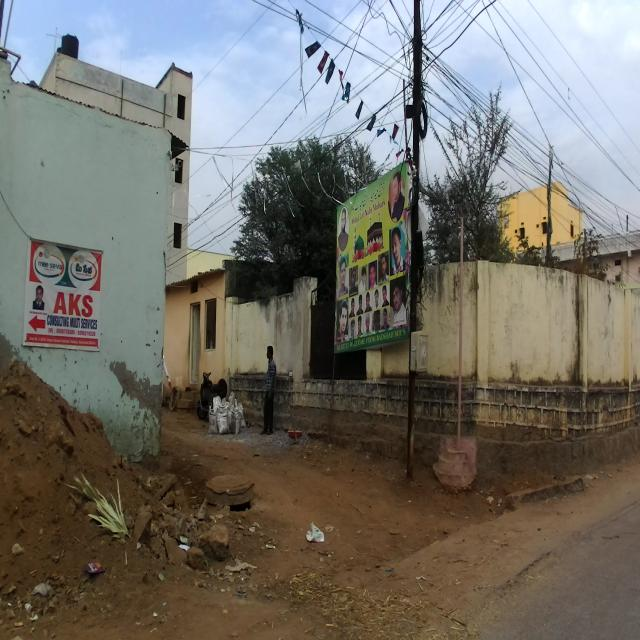electric pole ahead at: (399, 0, 423, 487)
motorcycle ahead at: (257, 340, 283, 432)
